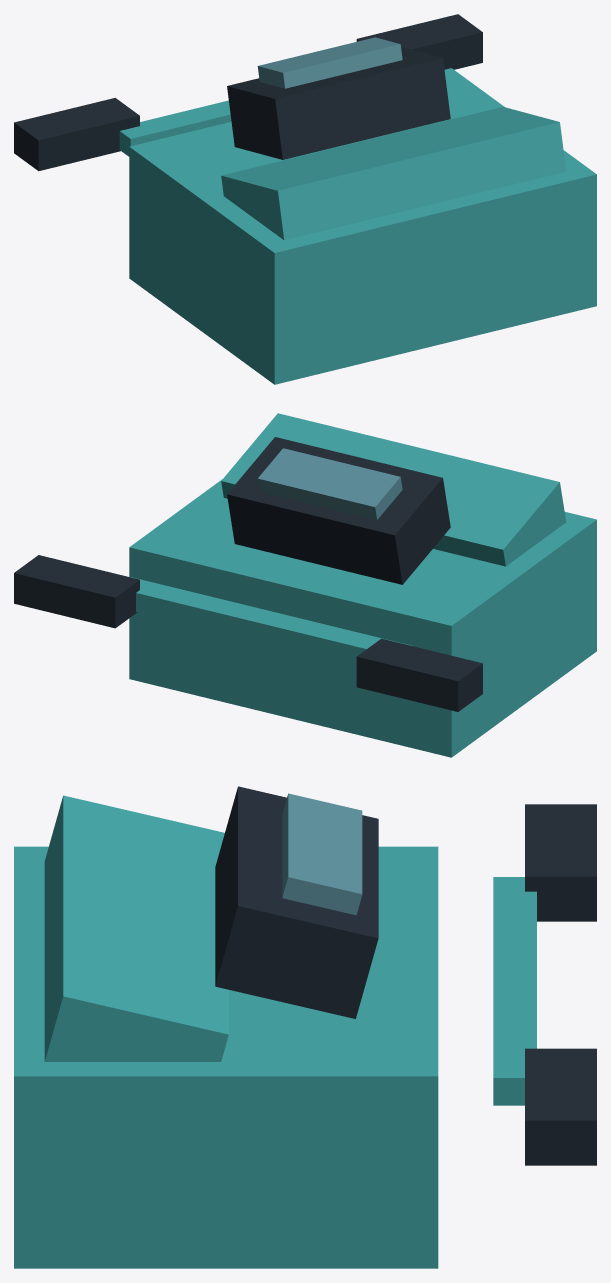
File: haidian.glb
3 views of the same model, one above another, from view 1: azimuth 30°, elevation 25°; view 2: azimuth 150°, elevation 25°; view 3: azimuth 270°, elevation 25° (orthographic). The views are drawn at different scales.
Parts seen in each view (by area): view 1: front_cowl, apron_upper_trim, cluster_housing, grip, display, grip.001, bar; view 2: front_cowl, cluster_housing, apron_upper_trim, grip, grip.001, display, bar.001, bar; view 3: front_cowl, apron_upper_trim, cluster_housing, display, grip.001, grip, bar.001, bar.
Boxes of the visible parts, bbox=[...] form: front_cowl: bbox=[129, 68, 596, 384]; apron_upper_trim: bbox=[221, 107, 566, 240]; cluster_housing: bbox=[227, 47, 450, 159]; grip: bbox=[14, 97, 139, 171]; display: bbox=[257, 37, 402, 88]; grip.001: bbox=[356, 14, 482, 69]; bar: bbox=[119, 100, 231, 156]; front_cowl: bbox=[129, 479, 596, 757]; cluster_housing: bbox=[227, 437, 450, 584]; apron_upper_trim: bbox=[221, 413, 566, 566]; grip: bbox=[356, 638, 482, 711]; grip.001: bbox=[14, 555, 139, 628]; display: bbox=[257, 448, 402, 519]; bar.001: bbox=[130, 577, 277, 642]; bar: bbox=[250, 610, 412, 665]; front_cowl: bbox=[14, 846, 438, 1268]; apron_upper_trim: bbox=[44, 795, 228, 1061]; cluster_housing: bbox=[215, 786, 378, 1018]; display: bbox=[282, 793, 362, 915]; grip.001: bbox=[525, 1048, 596, 1165]; grip: bbox=[525, 804, 596, 921]; bar.001: bbox=[493, 982, 536, 1105]; bar: bbox=[493, 877, 536, 982].
Bounding box in the file's own units: 0.635 × 0.2982 × 0.4945.
